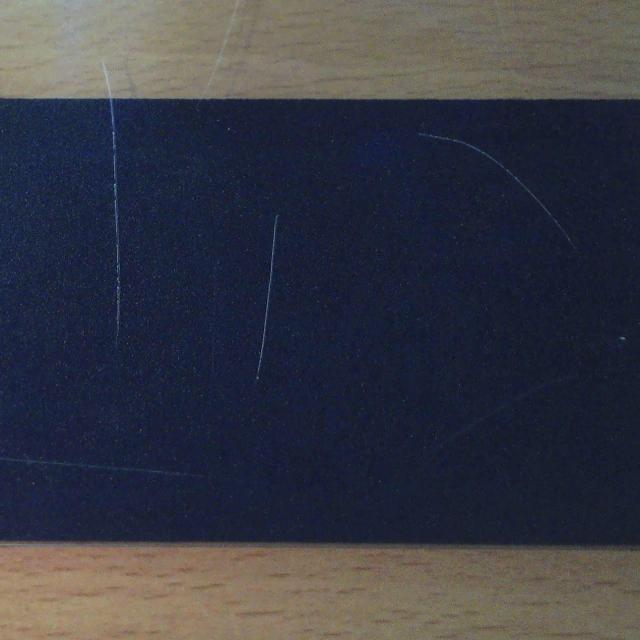defect: (420, 127, 583, 253), (104, 98, 126, 346), (256, 212, 281, 383)
